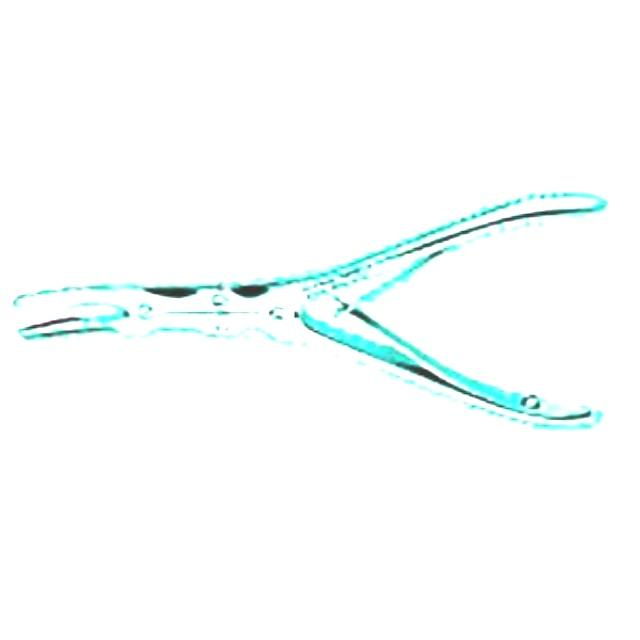gubia: (15, 191, 610, 433)
